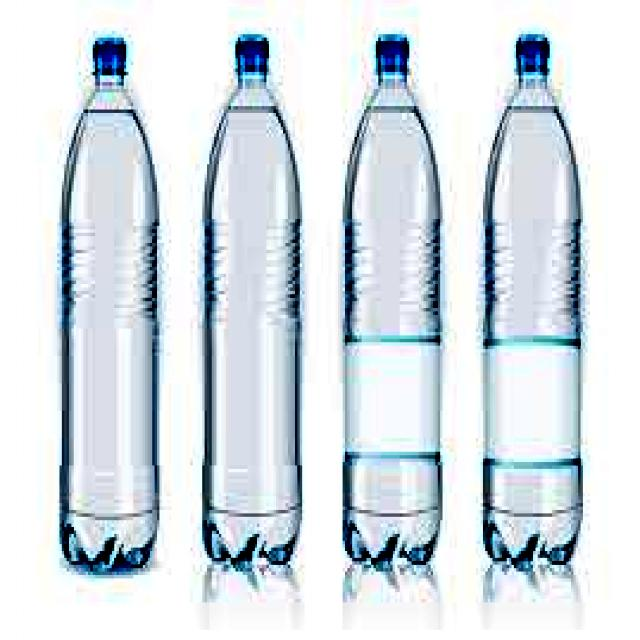Plastic: (203, 31, 306, 571), (58, 34, 160, 577), (341, 29, 442, 573), (482, 29, 582, 572)
